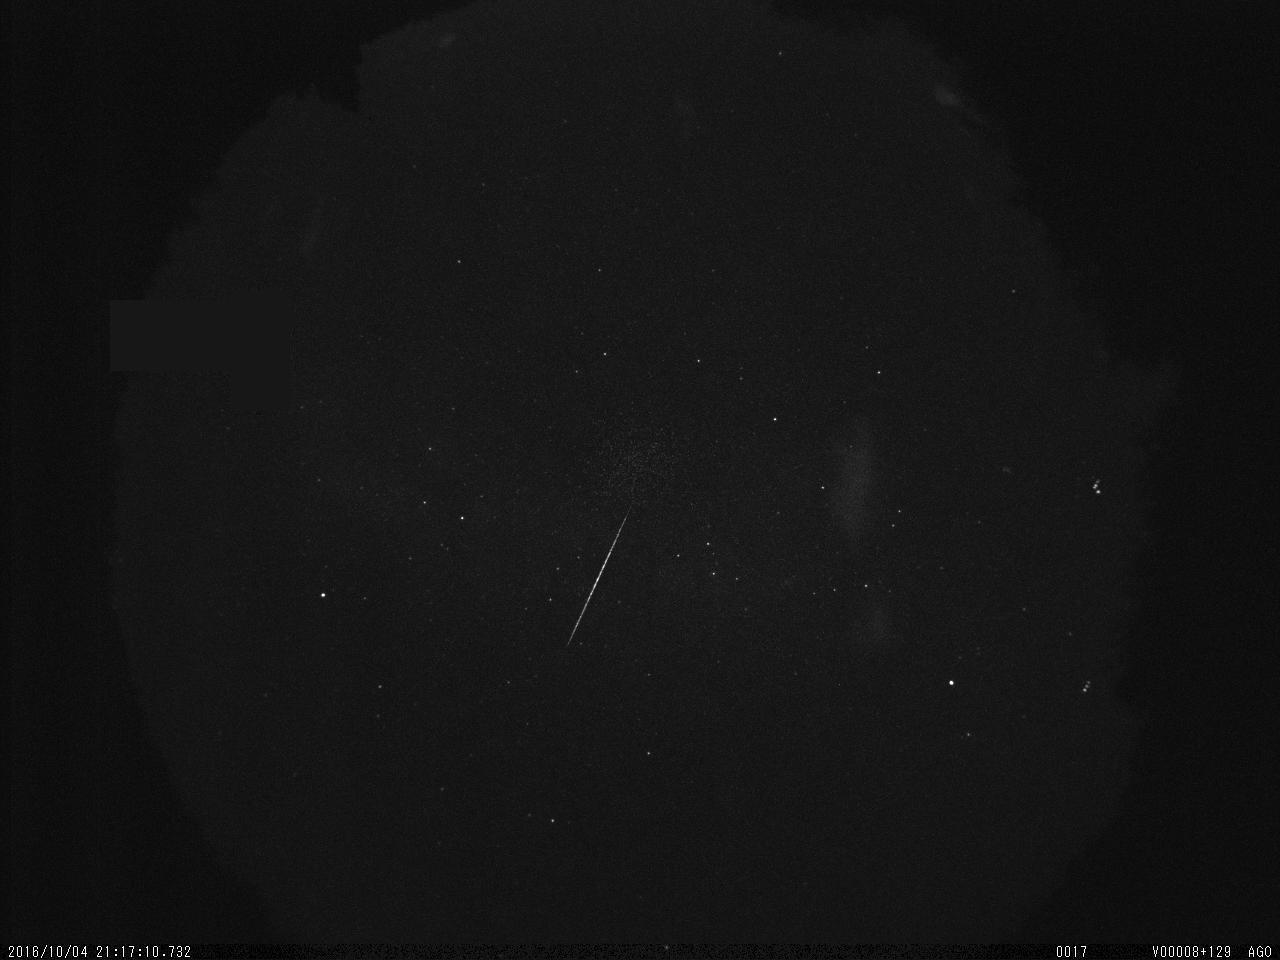Meteor: (565, 507, 632, 646)
